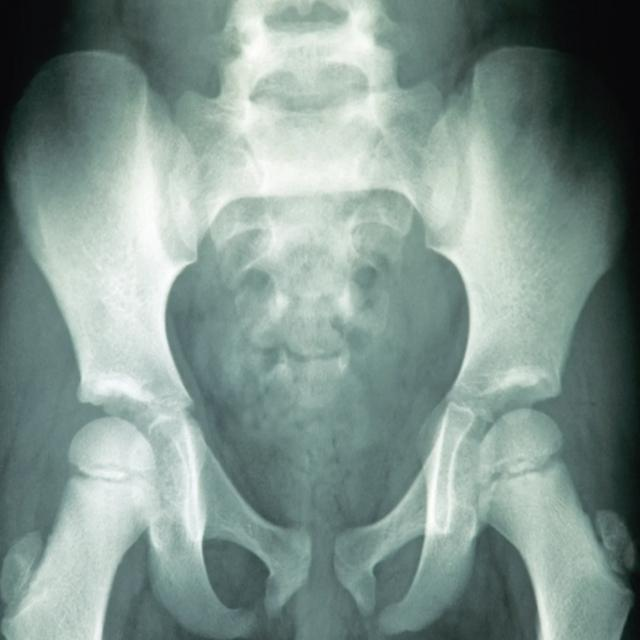bone: (63, 418, 169, 538), (471, 424, 572, 546)
